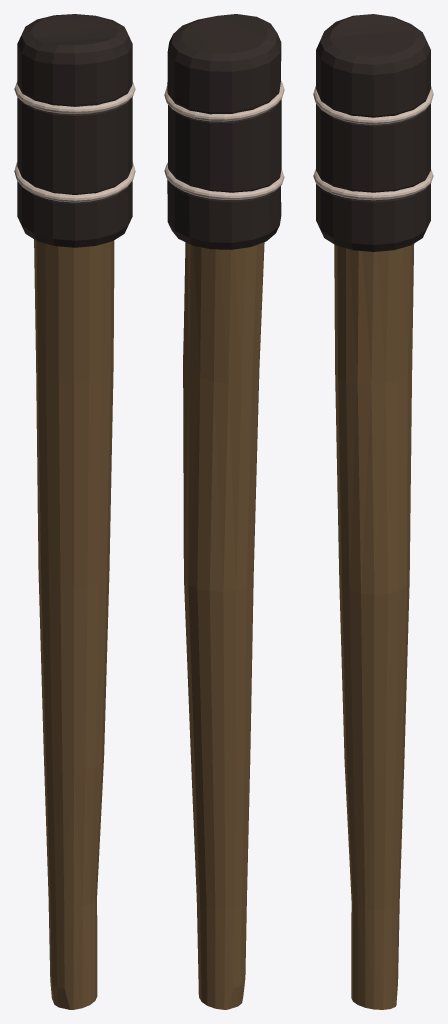
Rendered from Torch.fbx.
3 renders of one model, left to right at view 1: azimuth 90°, elevation 25°; view 2: azimuth 210°, elevation 25°; view 3: azimuth 270°, elevation 25°, orthographic.
Parts seen in each view (by area): view 1: Torch; view 2: Torch; view 3: Torch.
Part boxes in pixels (x1,y1,x2,y2): Torch: [14, 14, 135, 1009]; Torch: [164, 14, 284, 1009]; Torch: [313, 14, 433, 1009].
Bounding box in the file's own units: 0.0936 × 0.8325 × 0.0937.
